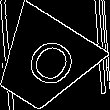O_SW: (11, 29, 76, 95)
